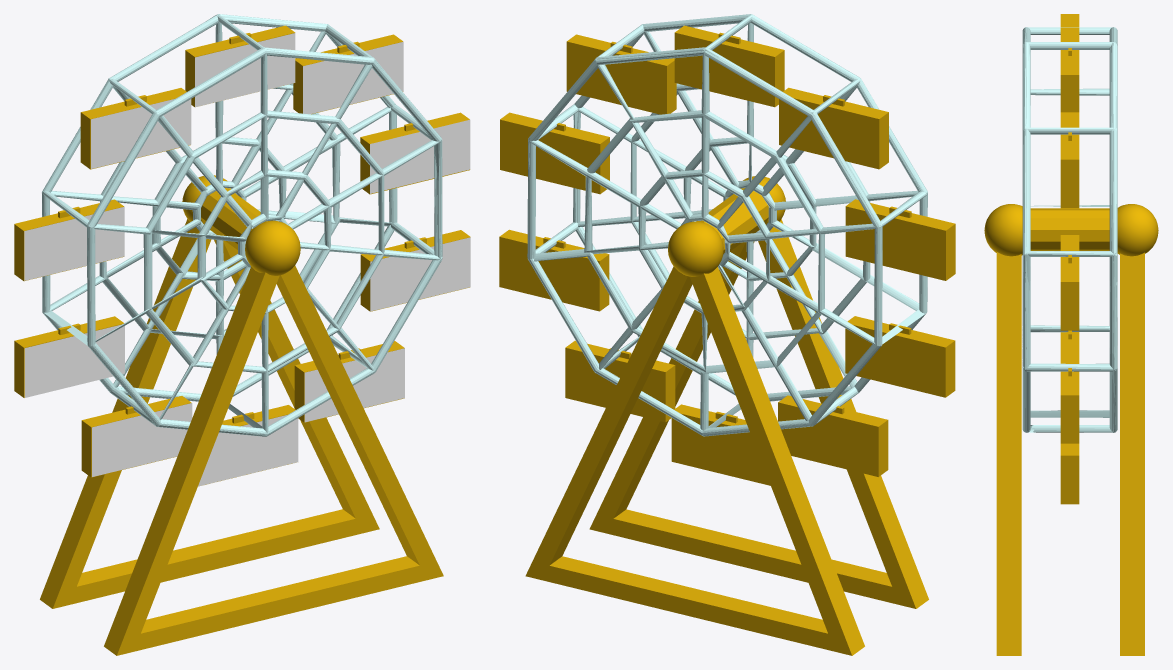
3 views of the same model, side by side, from view 1: azimuth 30°, elevation 25°; view 2: azimuth 150°, elevation 25°; view 3: azimuth 270°, elevation 25° (orthographic). The views are drawn at different scales.
Parts seen in each view (by area): view 1: Cylinder, Plane.011, Plane, Plane.004, Plane.003, Plane.005, Plane.010, Plane.008, Plane.006, Plane.009, Plane.007, Plane.001 (+12 smaller); view 2: Cylinder, Plane, Plane.011, v.005, v.004, v.003, v.006, v.008, v.007, v.010, v.009, v.001 (+3 smaller); view 3: Cylinder, Plane.011, Plane, Cylinder.001, Sphere.001, v.009, v.008, v.010, Sphere, v.007, v.002, v.003 (+1 smaller).
Part boxes in pixels (x1,y1,x2,y2): Cylinder: (42,14,442,436); Plane.011: (104,265,443,655); Plane: (40,219,379,608); Plane.004: (24,324,124,397); Plane.003: (92,403,192,476); Plane.005: (24,206,124,280); Plane.010: (370,237,470,311); Plane.008: (303,41,403,114); Plane.006: (91,99,191,168); Plane.009: (370,119,470,193); Plane.007: (195,33,295,107); Plane.001: (198,415,298,486); Cylinder: (527,14,927,436); Plane: (525,266,864,655); Plane.011: (589,219,928,608); v.005: (845,199,955,280); v.004: (845,316,955,397); v.003: (778,395,888,476); v.006: (779,87,888,169); v.008: (566,34,676,114); v.007: (674,25,784,107); v.010: (499,229,609,311); v.009: (500,112,609,194); v.001: (671,404,770,485); Cylinder: (1022,27,1117,432); Plane.011: (996,252,1021,655); Plane: (1120,252,1144,655); Cylinder.001: (1030,208,1109,250); Sphere.001: (1117,204,1158,256); v.009: (1060,235,1079,330); v.008: (1060,112,1079,207); v.010: (1060,348,1079,443); Sphere: (984,204,1022,256); v.007: (1060,27,1079,112); v.002: (1060,443,1079,504); v.003: (1060,330,1079,347).
Size of the model in its own units: 2.45 by 2.92 by 0.8585.
